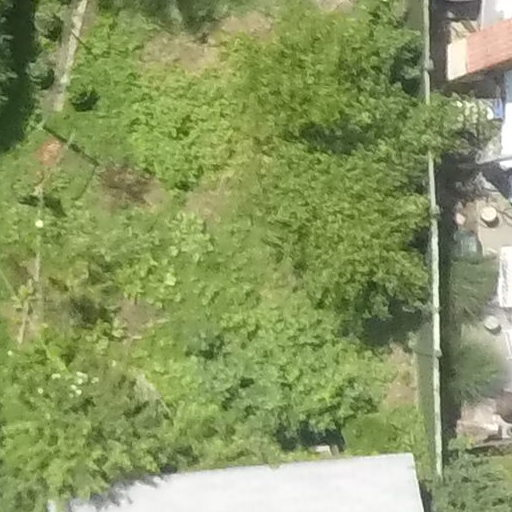container: (476, 201, 501, 226), (481, 312, 502, 333), (453, 210, 467, 229)
fence: (401, 1, 444, 486)
